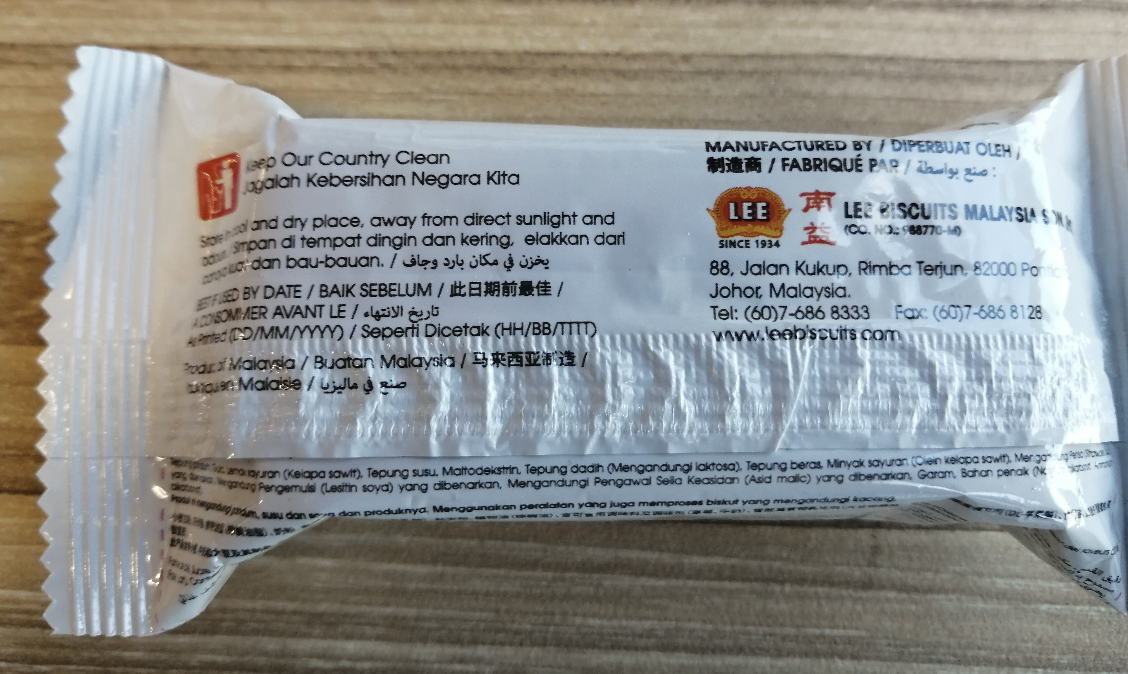Wafers: (121, 137, 1091, 501)
